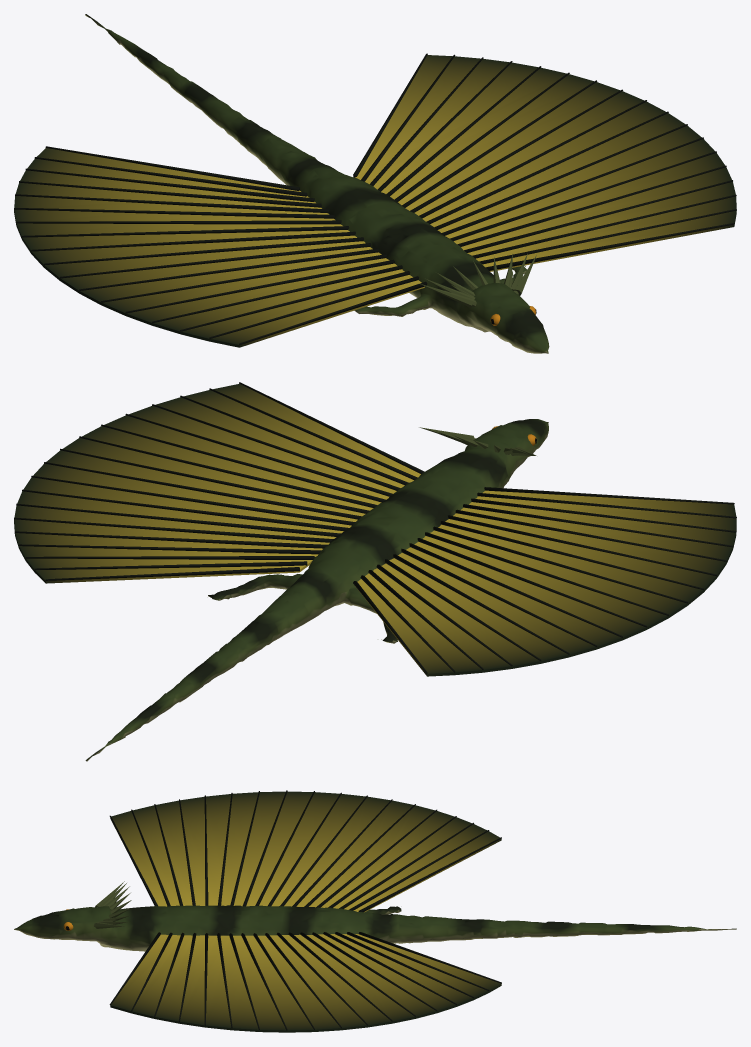
Rendered from Glaurung.fbx.
3 views of the same model, one above another, from view 1: azimuth 30°, elevation 25°; view 2: azimuth 150°, elevation 25°; view 3: azimuth 270°, elevation 25° (orthographic). The views are drawn at different scales.
Visible parts, largest first — view 1: Glaurung; view 2: Glaurung; view 3: Glaurung.
Boxes of the visible parts, bbox=[...] form: Glaurung: bbox=[14, 14, 736, 353]; Glaurung: bbox=[14, 382, 736, 761]; Glaurung: bbox=[14, 790, 736, 1032].
Size of the model in its own units: 1.24 by 0.1197 by 1.59.
